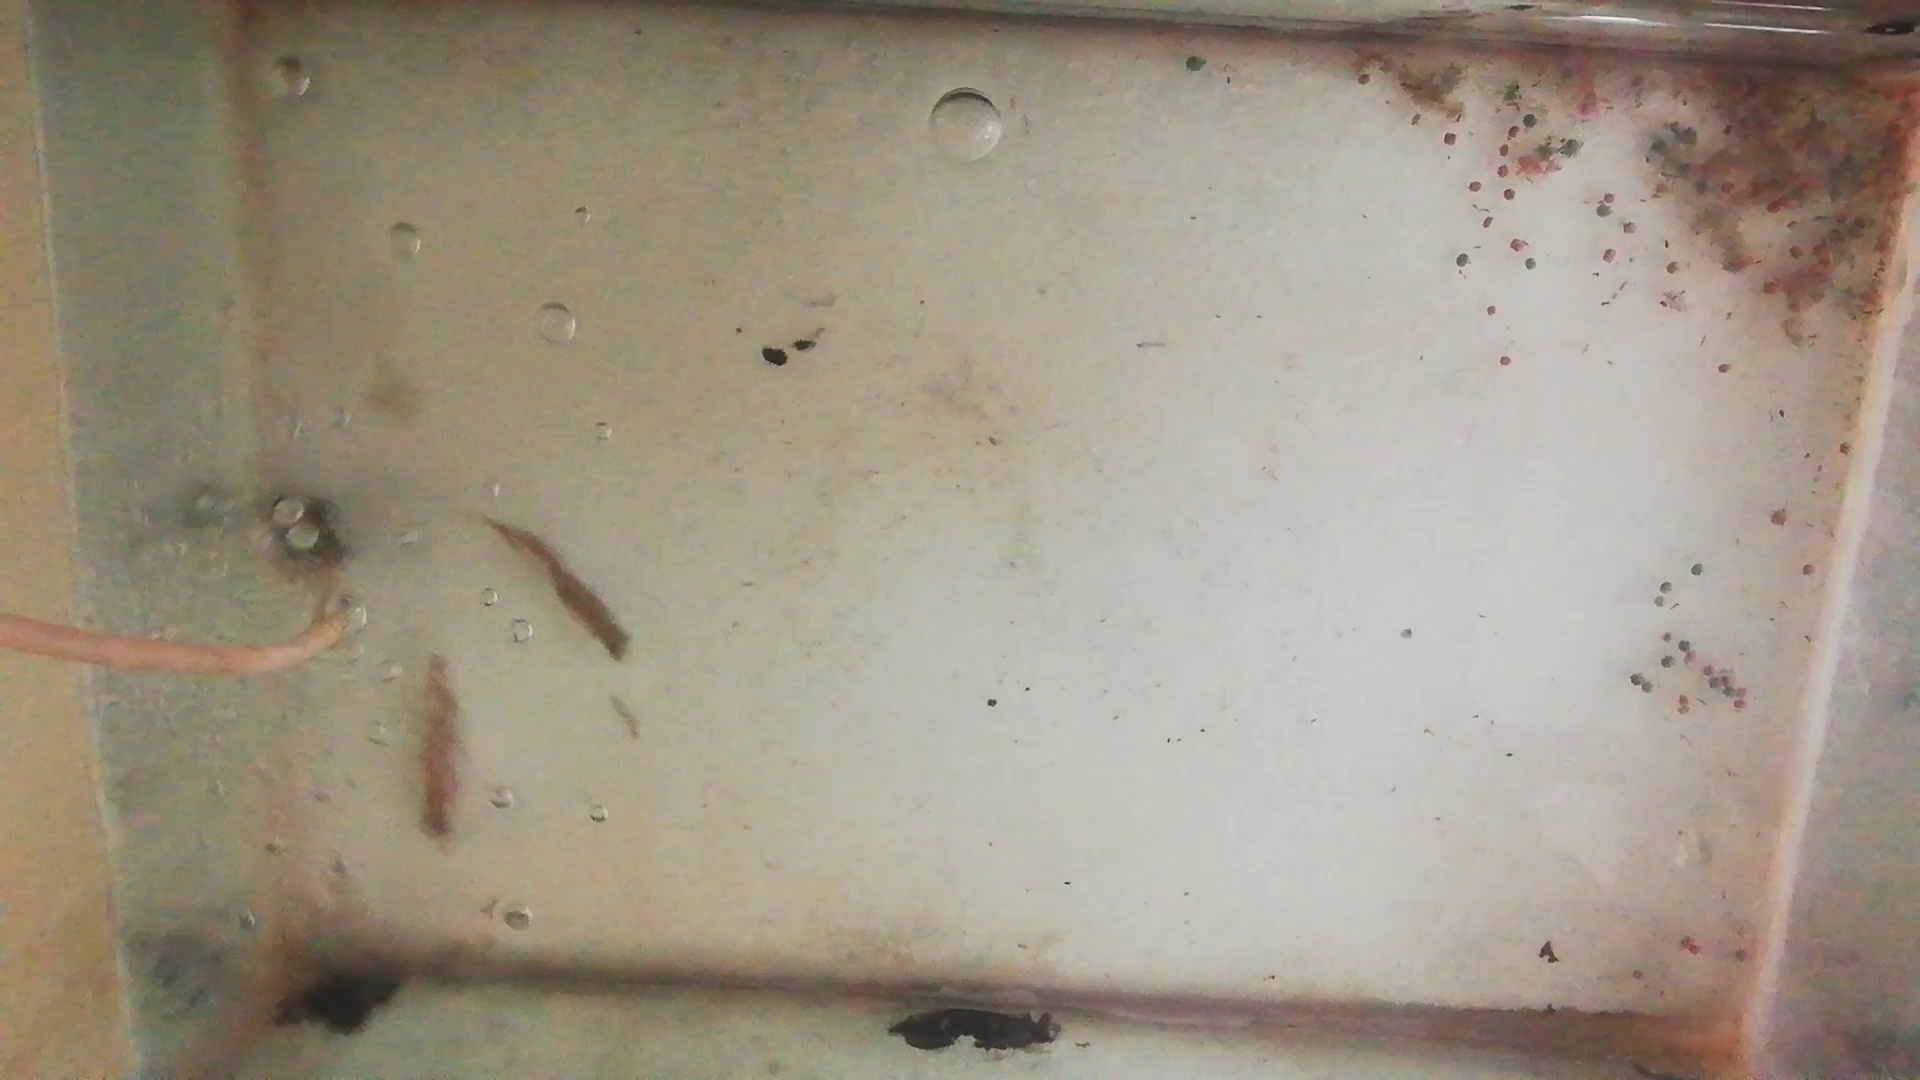fish: (491, 525, 638, 669), (409, 658, 468, 848)
